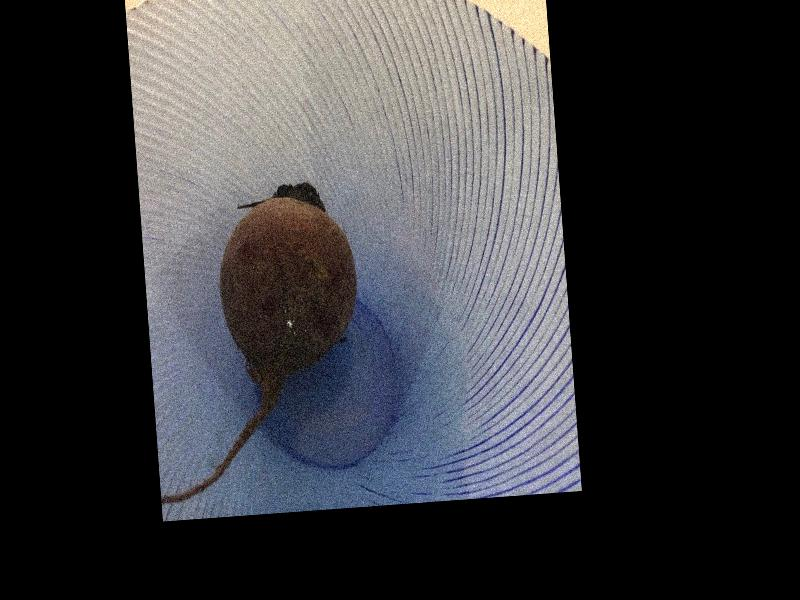Beet: (138, 177, 371, 502)
